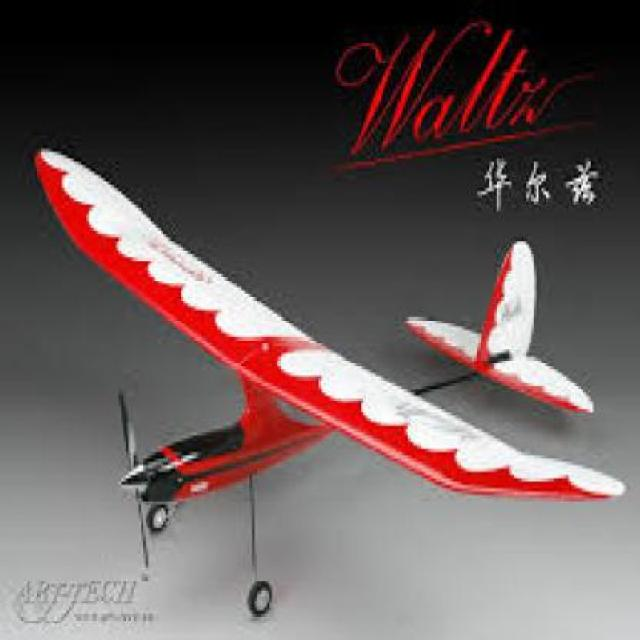iha: (21, 142, 617, 584)
